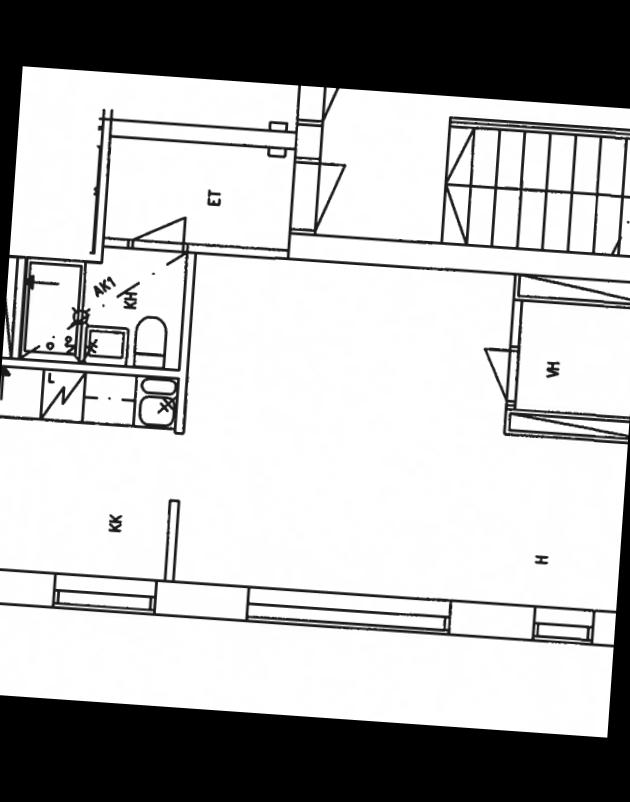door: (300, 155, 352, 230), (479, 343, 519, 405), (126, 210, 190, 246)
window: (231, 576, 458, 640), (41, 564, 158, 622), (526, 599, 606, 649)
